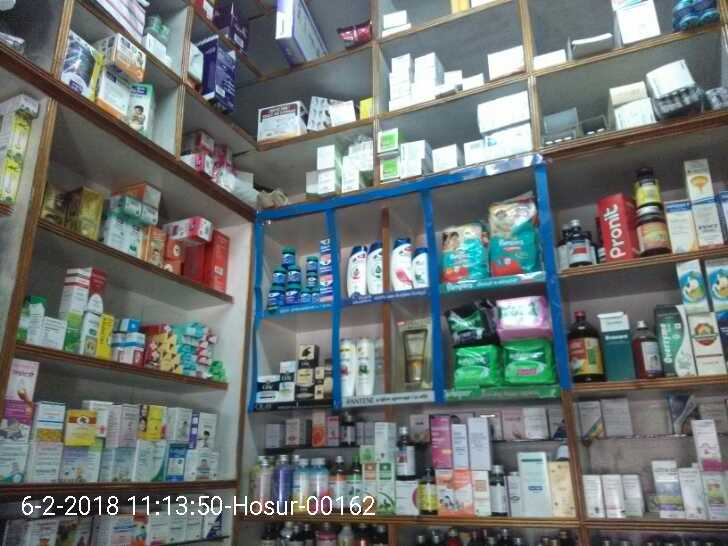vicks: (271, 233, 333, 308)
